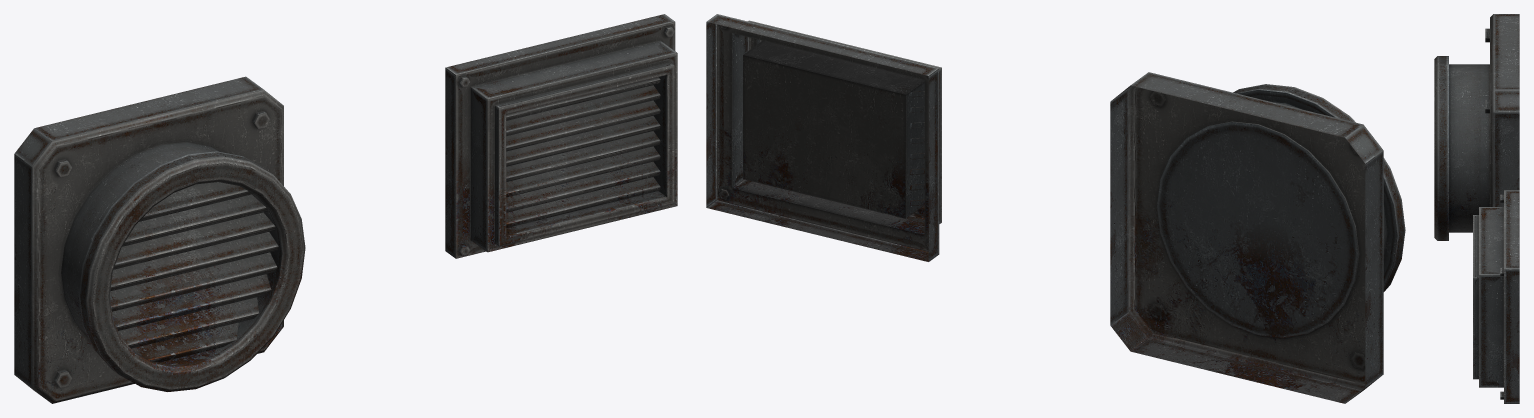
File: vents.fbx
3 renders of one model, left to right at view 1: azimuth 30°, elevation 25°; view 2: azimuth 150°, elevation 25°; view 3: azimuth 270°, elevation 25°, orthographic. The views are drawn at different scales.
Parts seen in each view (by area): view 1: vent2, vent1; view 2: vent2, vent1; view 3: vent2, vent1.
Boxes of the visible parts, x1,y1,x2,y2 form: vent2: [14, 76, 305, 403]; vent1: [445, 14, 677, 258]; vent2: [1110, 72, 1405, 403]; vent1: [706, 14, 941, 261]; vent2: [1434, 14, 1519, 240]; vent1: [1473, 190, 1519, 403].
Size of the model in its own units: 445 by 172 by 68.98.
